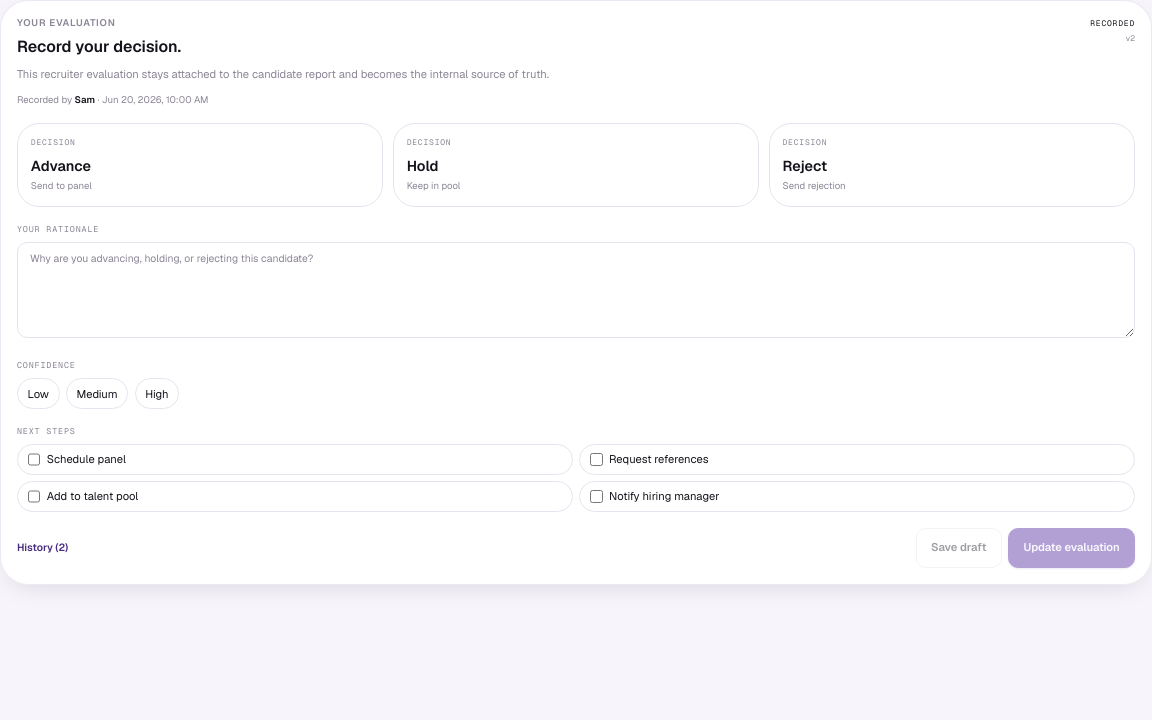
Test: DecisionRecorder › renders the change history on demand
Click the button "History (2)" at (43, 548), box [17,534,68,562]
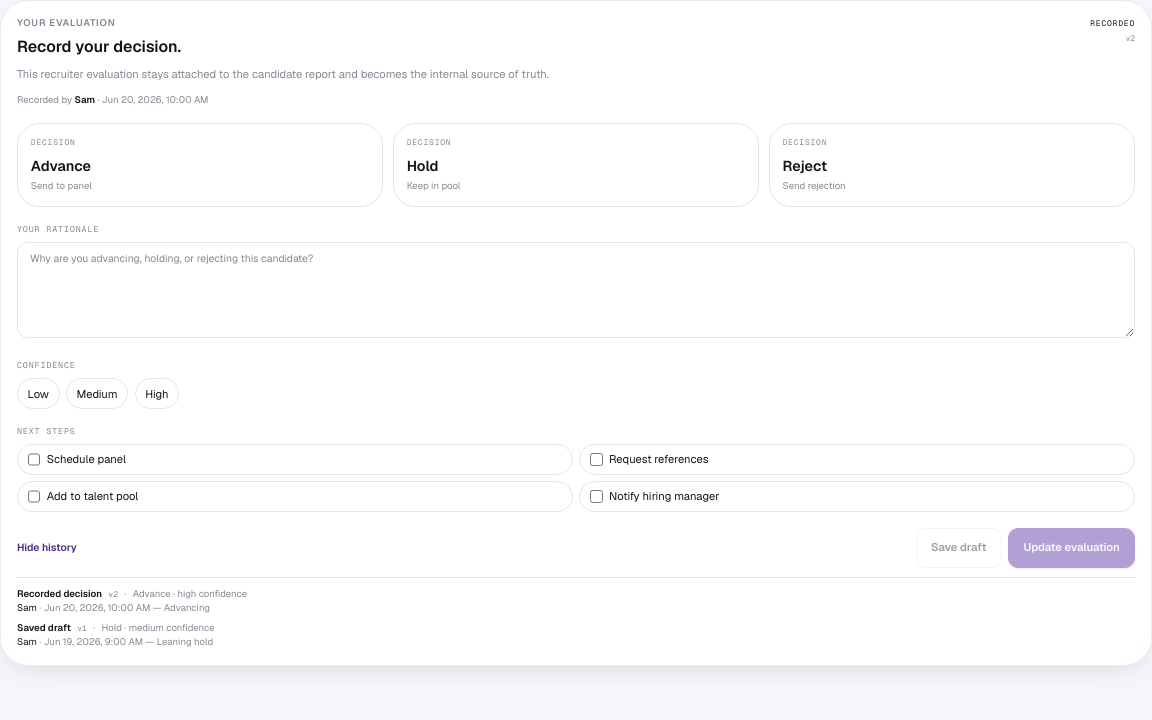
Now the element with test id "decision-history" is shown, box [17,578,1135,649]
Now the text "Saved draft" is shown, box [17,622,71,634]
Now the text "Recorded decision" is shown, box [17,588,102,601]
